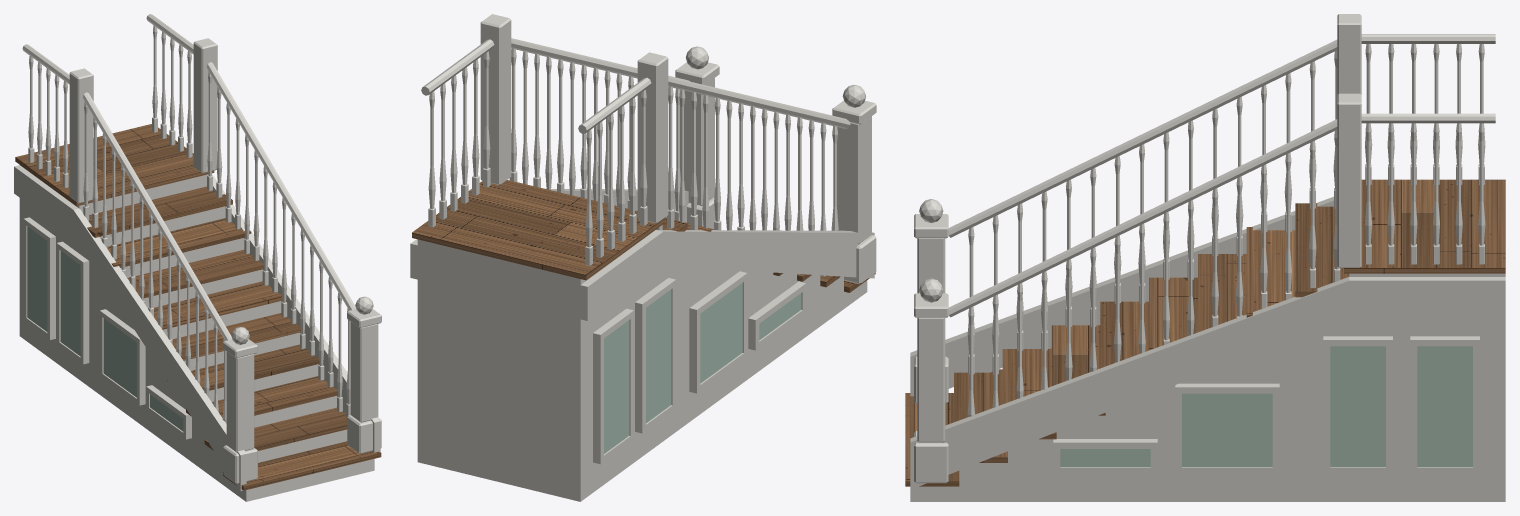
The model's file is back_stoop_e.glb.
The picture shows the model from 3 angles, left to right: view 1: azimuth 30°, elevation 25°; view 2: azimuth 150°, elevation 25°; view 3: azimuth 270°, elevation 25°; orthographic projection. The views are drawn at different scales.
Parts seen in each view (by area): view 1: back_stoop_e_trim, back_stoop_e_deck, back_stoop_e_acc_e; view 2: back_stoop_e_trim, back_stoop_e_deck, back_stoop_e_acc_e; view 3: back_stoop_e_trim, back_stoop_e_deck, back_stoop_e_acc_e.
Boxes of the visible parts, <box> form: back_stoop_e_trim: <box>14,14,381,501</box>; back_stoop_e_deck: <box>15,124,381,490</box>; back_stoop_e_acc_e: <box>27,226,183,431</box>; back_stoop_e_trim: <box>410,14,876,501</box>; back_stoop_e_deck: <box>412,180,875,292</box>; back_stoop_e_acc_e: <box>604,283,801,453</box>; back_stoop_e_trim: <box>910,14,1505,501</box>; back_stoop_e_deck: <box>905,179,1505,486</box>; back_stoop_e_acc_e: <box>1060,346,1472,467</box>.
Bounding box in the file's own units: 1.28 × 2.55 × 3.45.
Materials: 3 (1 with a texture image).
